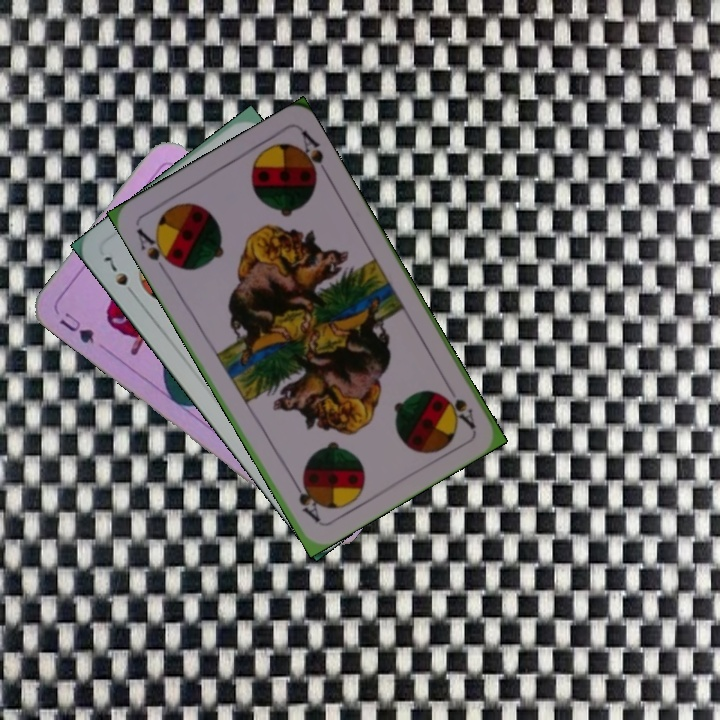GU: (55, 308, 97, 347)
S7: (100, 252, 131, 289)
SA: (132, 224, 178, 276), (439, 378, 479, 432)
